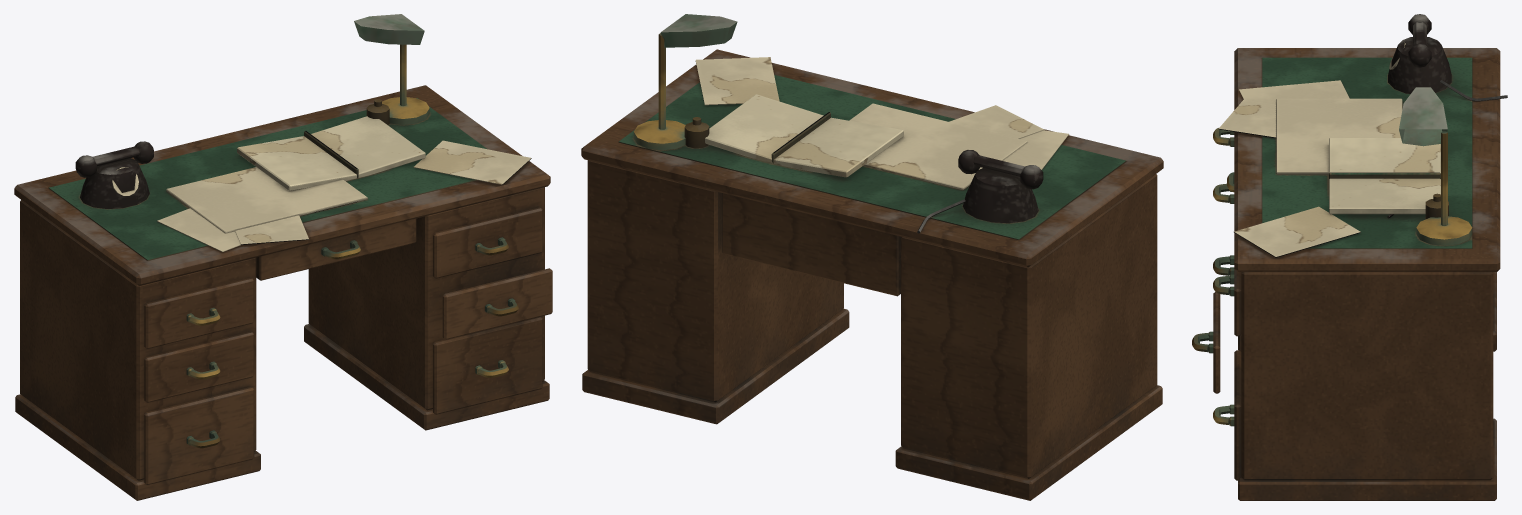
The model's file is StationDesk.fbx.
3 views of the same model, side by side, from view 1: azimuth 30°, elevation 25°; view 2: azimuth 150°, elevation 25°; view 3: azimuth 270°, elevation 25° (orthographic). The views are drawn at different scales.
Visible parts, largest first — view 1: StationDesk; view 2: StationDesk; view 3: StationDesk.
Boxes of the visible parts, x1,y1,x2,y2 form: StationDesk: (14,14,552,500); StationDesk: (581,14,1163,500); StationDesk: (1192,14,1507,500).
Bounding box in the file's own units: 4.35 × 3.4 × 2.71.
1 material, 1 textured.
